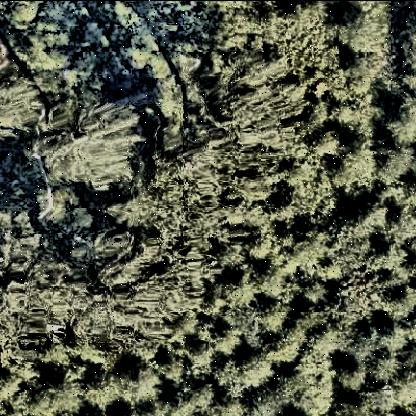tree-top: (36, 84, 141, 198), (97, 334, 163, 404), (32, 365, 98, 416), (2, 64, 42, 141), (331, 140, 378, 198), (227, 347, 283, 395), (190, 379, 220, 411), (336, 361, 363, 395), (185, 341, 213, 371), (258, 297, 288, 324)
